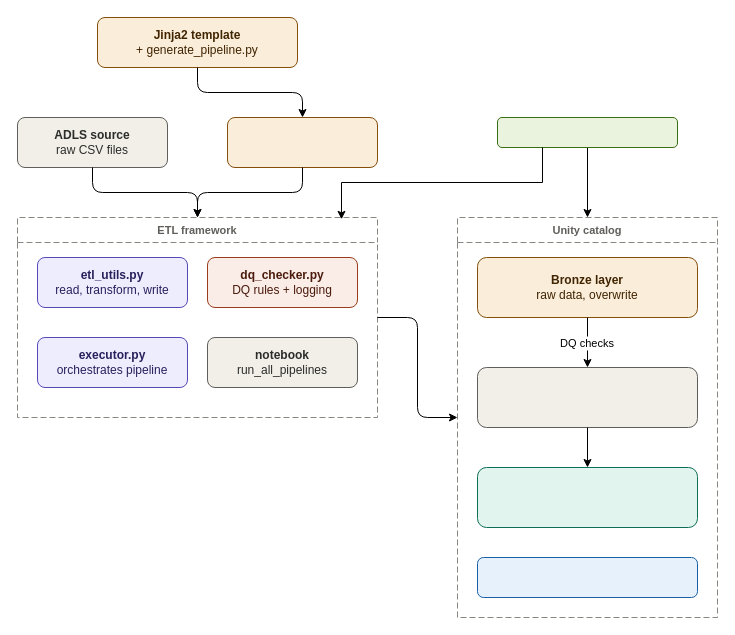
Image size: 735x635. Some labels were removed from this diagram. Each missing label, with the centre of its shape:
"Audit layer run log + DQ results" belongs at pixel 587 577.
"Gold layer risk report, overwrite" belongs at pixel 587 497.
"pytest config, transform, DQ tests" belongs at pixel 587 132.
"Silver layer cleaned, merged" belongs at pixel 587 397.
"YAML configs pipeline definitions" belongs at pixel 302 142.
